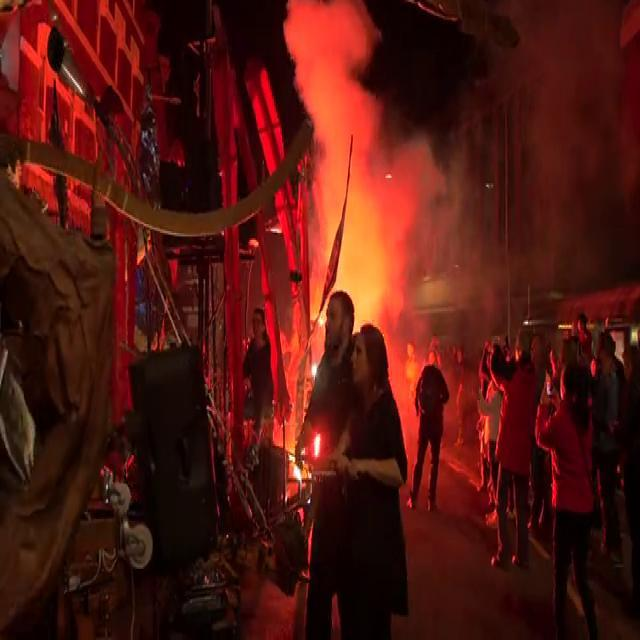fire: (348, 195, 384, 301), (354, 274, 394, 320), (314, 198, 334, 254)
smoke: (286, 5, 366, 55), (421, 172, 466, 244), (302, 47, 347, 95), (406, 146, 433, 194)
